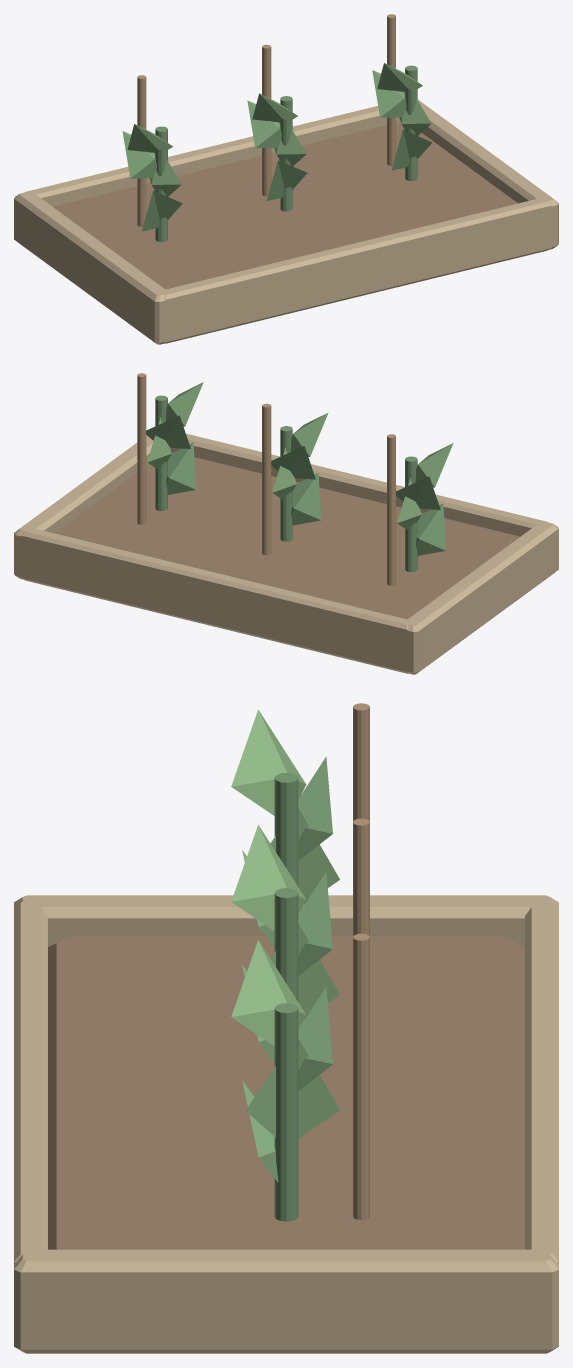
File: tomato_plot.glb
3 views of the same model, one above another, from view 1: azimuth 30°, elevation 25°; view 2: azimuth 150°, elevation 25°; view 3: azimuth 270°, elevation 25° (orthographic). The views are drawn at different scales.
Visible parts, largest first — view 1: tomato_plot; view 2: tomato_plot; view 3: tomato_plot.
Boxes of the visible parts, x1,y1,x2,y2 form: tomato_plot: (14,14,558,344); tomato_plot: (14,373,558,674); tomato_plot: (14,703,558,1353).
Size of the model in its own units: 2.59 by 1.15 by 1.6.
